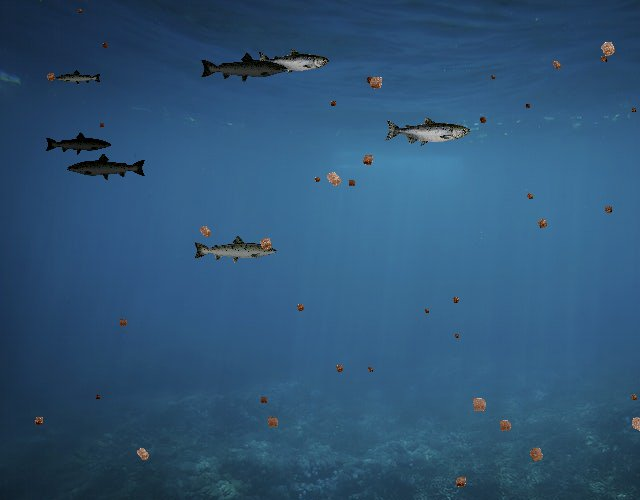Fish: (199, 52, 289, 84), (192, 234, 278, 265), (384, 116, 470, 147), (66, 152, 148, 181), (257, 49, 330, 75), (45, 132, 113, 156), (55, 70, 102, 87)
Pellet: (318, 163, 348, 194), (465, 391, 493, 419), (493, 414, 517, 438), (193, 220, 217, 244), (532, 213, 552, 233), (311, 174, 324, 187), (452, 330, 462, 340)
